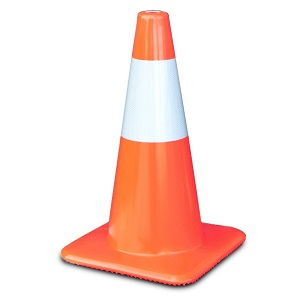traffic cone: (60, 10, 246, 286)
